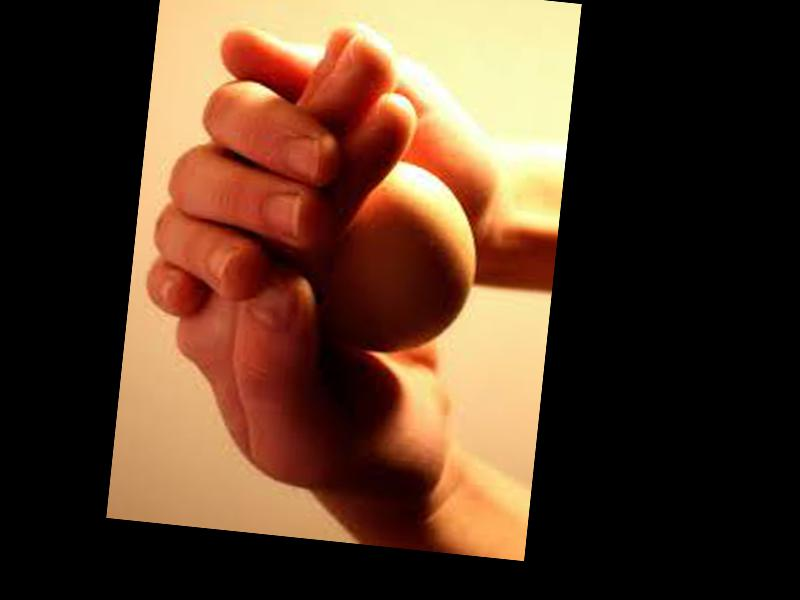Eggs: (319, 155, 485, 363)
